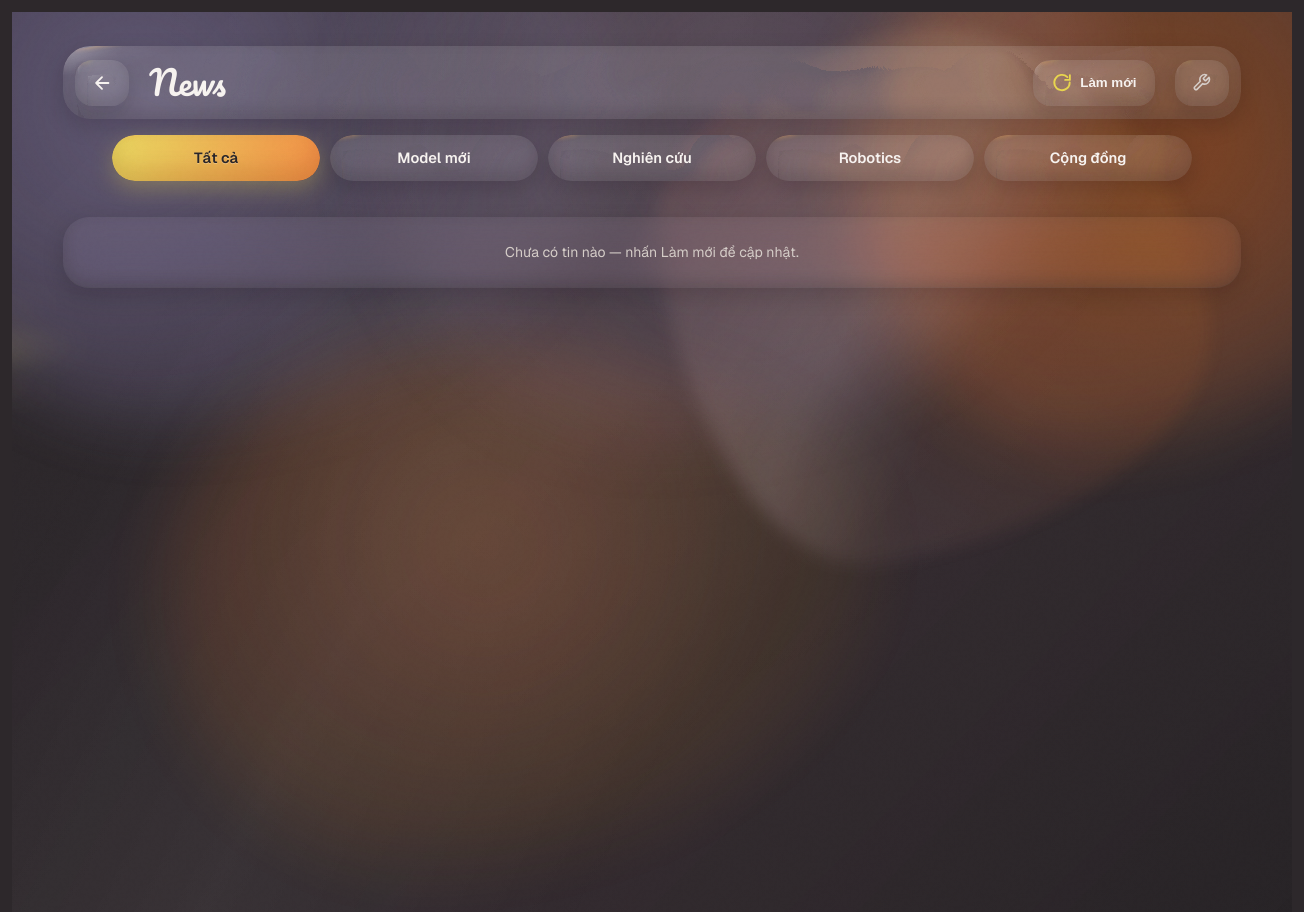
NewsPage › shows a distinct message on 429 cooldown
Click the button "Làm mới" at (1094, 83), box x1=1033 y1=60 x2=1155 y2=106
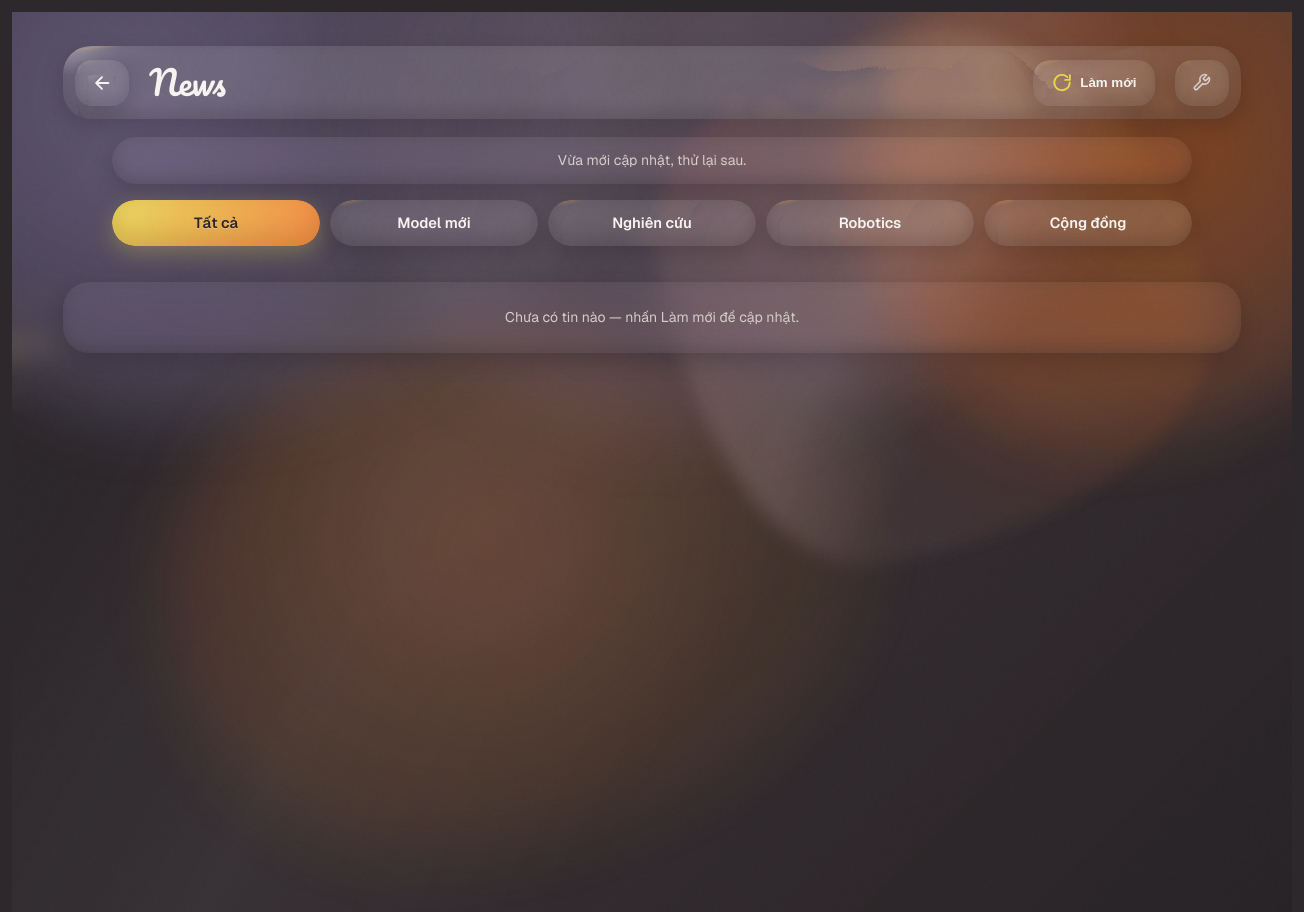
Check: the text "Vừa mới cập nhật, thử lại sau." is shown, box x1=112 y1=137 x2=1192 y2=184
